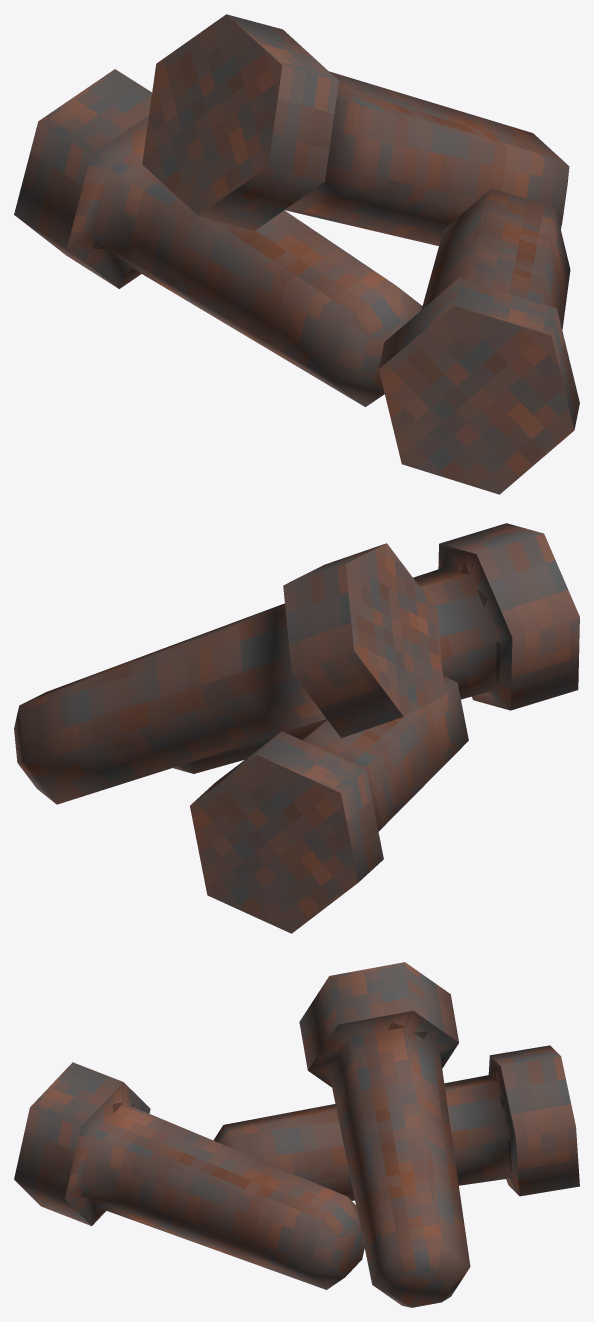
Rendered from Screw.fbx.
3 renders of one model, top to bottom at view 1: azimuth 30°, elevation 25°; view 2: azimuth 150°, elevation 25°; view 3: azimuth 270°, elevation 25°, orthographic. The views are drawn at different scales.
Visible parts, largest first — view 1: Screw; view 2: Screw; view 3: Screw.
Boxes of the visible parts, x1,y1,x2,y2 form: Screw: [14, 14, 579, 494]; Screw: [14, 523, 579, 933]; Screw: [14, 962, 579, 1307].
Bounding box in the file's own units: 0.3048 × 0.2037 × 0.4374.
